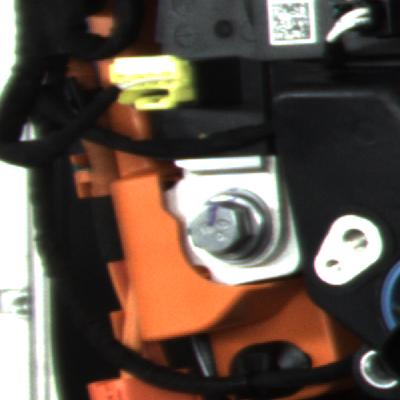nut_b: (173, 185, 276, 277)
